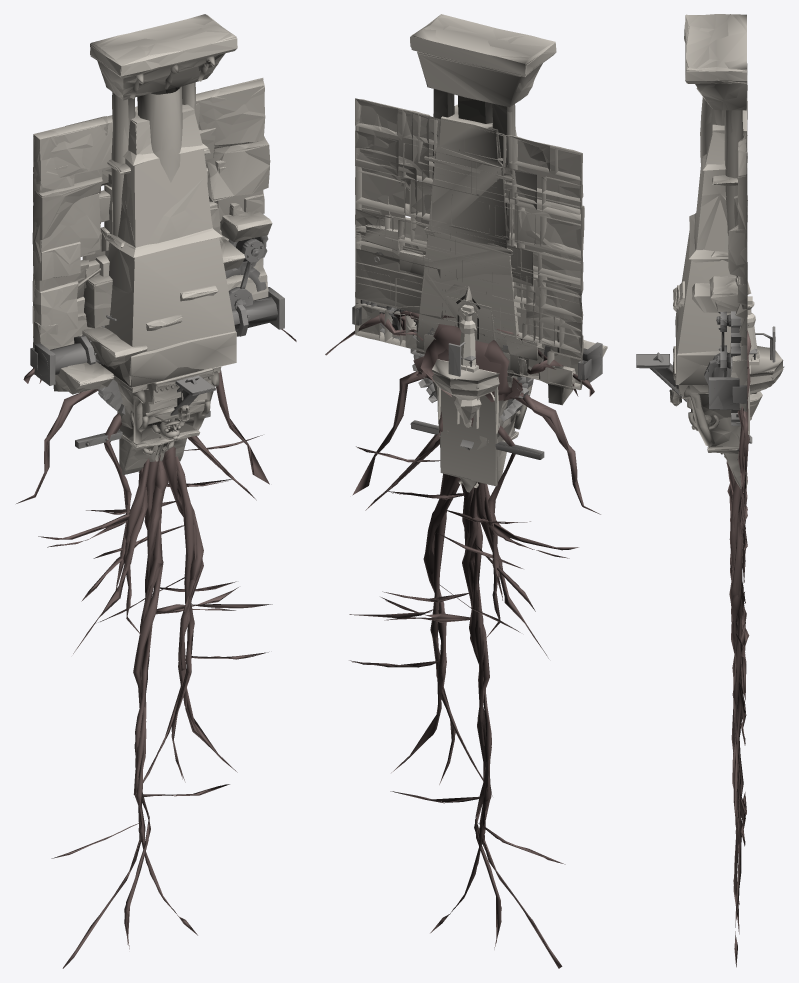
The model's file is ch1_env_kit.glb.
The picture shows the model from 3 angles, left to right: view 1: azimuth 30°, elevation 25°; view 2: azimuth 150°, elevation 25°; view 3: azimuth 270°, elevation 25°; orthographic projection.
Visible parts, largest first — view 1: ch1_env_buttress_lo, ch1_env_buttress_lo_lod0, ch1_env_column_cluster_lod0, ch1_env_wall_c_lod0, ch1_env_column_cluster, ch1_env_wall_c, ch1_env_root_c_lod0, ch1_env_wall_a_lod0, ch1_env_wall_a, ch1_env_root_b_lod0, ch1_env_stair_fragment_lod0, ch1_env_corbel_hero_lod0 (+17 smaller); view 2: ch1_env_wall_b, ch1_env_buttress_lo, ch1_env_column_cluster_lod0, ch1_env_wall_c, ch1_env_buttress_lo_lod0, ch1_env_wall_a, ch1_env_wall_b_lod0, ch1_env_root_c_lod0, ch1_env_wall_c_lod0, ch1_env_growth_lod0, ch1_env_wall_a_lod0, ch1_env_column_cluster (+16 smaller); view 3: ch1_env_buttress_lo, ch1_env_column_cluster_lod0, ch1_env_column_cluster, ch1_env_buttress_lo_lod0, ch1_env_root_b_lod0, ch1_env_root_b, ch1_env_root_c_lod0, ch1_env_capital_lod0, ch1_env_pipe_run_lod0, ch1_env_wall_a_lod0, ch1_env_stair_fragment, ch1_env_boss_lod0 (+16 smaller).
Part boxes in pixels (x1,y1,x2,y2): ch1_env_buttress_lo: (101, 107, 235, 387); ch1_env_buttress_lo_lod0: (108, 104, 236, 388); ch1_env_column_cluster_lod0: (90, 14, 237, 247); ch1_env_wall_c_lod0: (33, 103, 270, 328); ch1_env_column_cluster: (90, 14, 236, 247); ch1_env_wall_c: (34, 88, 269, 332); ch1_env_root_c_lod0: (51, 455, 238, 968); ch1_env_wall_a_lod0: (33, 79, 268, 374); ch1_env_wall_a: (32, 79, 267, 349); ch1_env_root_b_lod0: (86, 435, 272, 794); ch1_env_stair_fragment_lod0: (53, 210, 270, 394); ch1_env_corbel_hero_lod0: (119, 369, 214, 474); ch1_env_wall_b: (355, 98, 582, 389); ch1_env_buttress_lo: (416, 104, 537, 376); ch1_env_column_cluster_lod0: (410, 15, 556, 375); ch1_env_wall_c: (355, 98, 584, 389); ch1_env_buttress_lo_lod0: (416, 107, 536, 376); ch1_env_wall_a: (355, 99, 582, 379); ch1_env_wall_b_lod0: (355, 98, 582, 389); ch1_env_root_c_lod0: (381, 356, 565, 968); ch1_env_wall_c_lod0: (355, 98, 584, 389); ch1_env_growth_lod0: (325, 310, 594, 600); ch1_env_wall_a_lod0: (355, 99, 583, 389); ch1_env_column_cluster: (410, 14, 555, 354); ch1_env_buttress_lo: (677, 124, 746, 384); ch1_env_column_cluster_lod0: (684, 14, 747, 256); ch1_env_column_cluster: (685, 14, 746, 257); ch1_env_buttress_lo_lod0: (675, 110, 746, 384); ch1_env_root_b_lod0: (728, 467, 747, 832); ch1_env_root_b: (726, 461, 747, 828); ch1_env_root_c_lod0: (727, 483, 749, 967); ch1_env_capital_lod0: (682, 385, 740, 453); ch1_env_pipe_run_lod0: (704, 353, 746, 409); ch1_env_wall_a_lod0: (730, 63, 747, 410); ch1_env_stair_fragment: (673, 276, 739, 312); ch1_env_boss_lod0: (749, 346, 784, 420).
Size of what is drawn, in the model's own units: 4.8 by 14.91 by 2.21.
